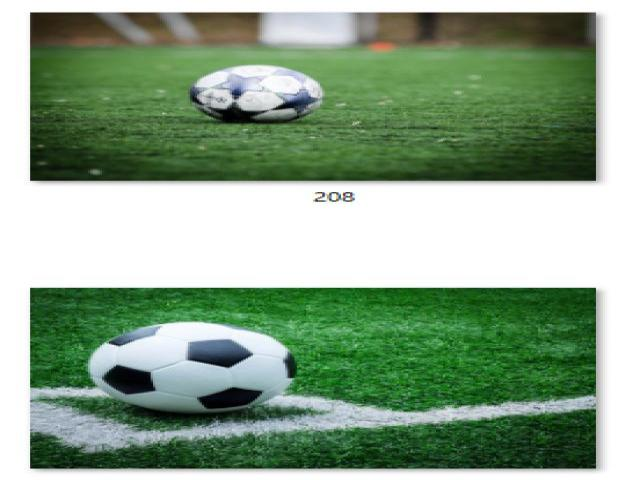round ball: (89, 322, 296, 413), (191, 66, 324, 122)
